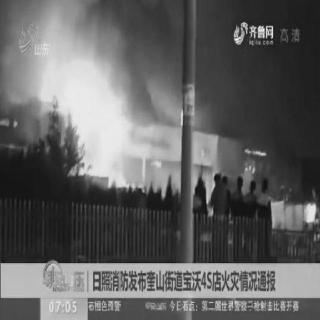Fire: (39, 43, 129, 190)
other: (38, 252, 90, 318), (16, 14, 42, 58), (267, 181, 287, 227)
